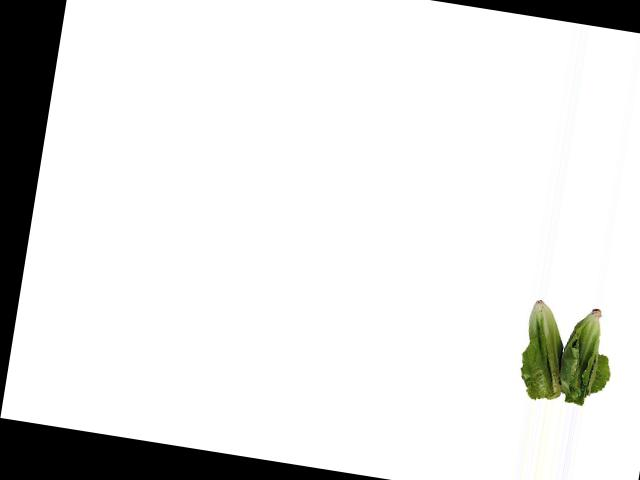lettuce: (511, 296, 610, 408)
